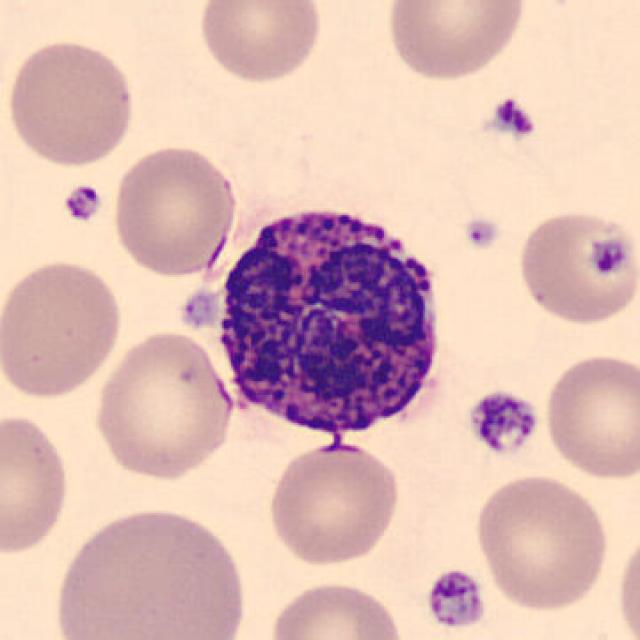Basophil: (195, 189, 457, 455)
Platelets: (464, 388, 542, 457), (421, 566, 489, 633), (487, 95, 537, 141), (588, 234, 633, 280), (59, 182, 103, 226), (178, 287, 220, 330), (461, 213, 502, 252)
RBC: (48, 502, 252, 640), (89, 326, 238, 483), (469, 469, 612, 614), (263, 438, 404, 570), (0, 256, 126, 402), (2, 36, 138, 170), (108, 141, 240, 279), (512, 206, 640, 328), (540, 347, 640, 483), (382, 0, 530, 83), (193, 0, 325, 86), (0, 409, 73, 557), (265, 575, 409, 640), (613, 523, 639, 640)
